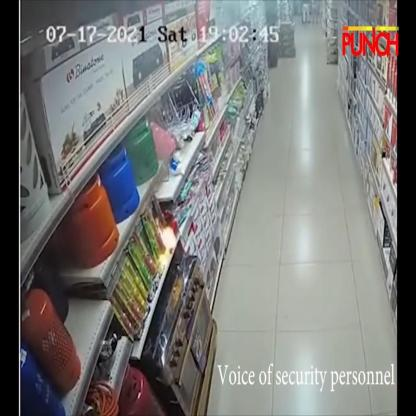fire: (159, 226, 176, 263)
